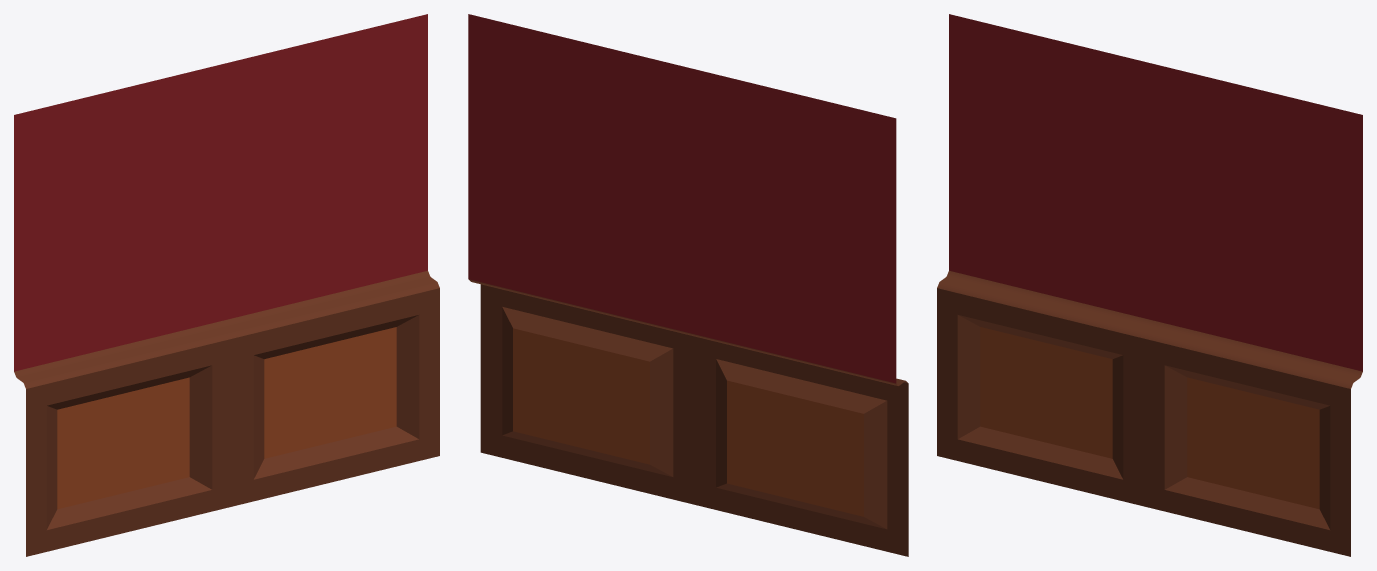
Rendered from MuurBar.fbx.
3 views of the same model, side by side, from view 1: azimuth 30°, elevation 25°; view 2: azimuth 150°, elevation 25°; view 3: azimuth 330°, elevation 25° (orthographic). The views are drawn at different scales.
Visible parts, largest first — view 1: Plane.010; view 2: Plane.010; view 3: Plane.010.
Part boxes in pixels (x1,y1,x2,y2): Plane.010: (14,14,439,556); Plane.010: (468,14,908,556); Plane.010: (937,14,1362,556).
Bounding box in the file's own units: 2 × 2 × 0.1.
